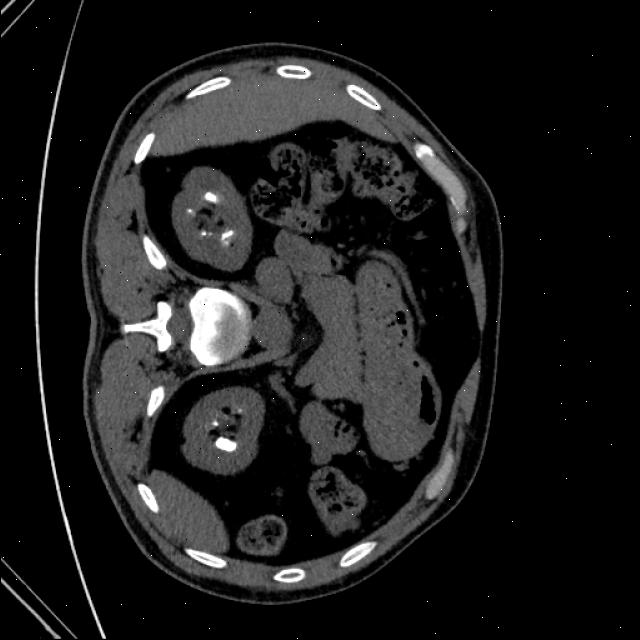kidneystone: (214, 436, 236, 452), (219, 230, 234, 248), (198, 225, 212, 238), (207, 192, 218, 202), (185, 209, 192, 215), (211, 420, 219, 425)
